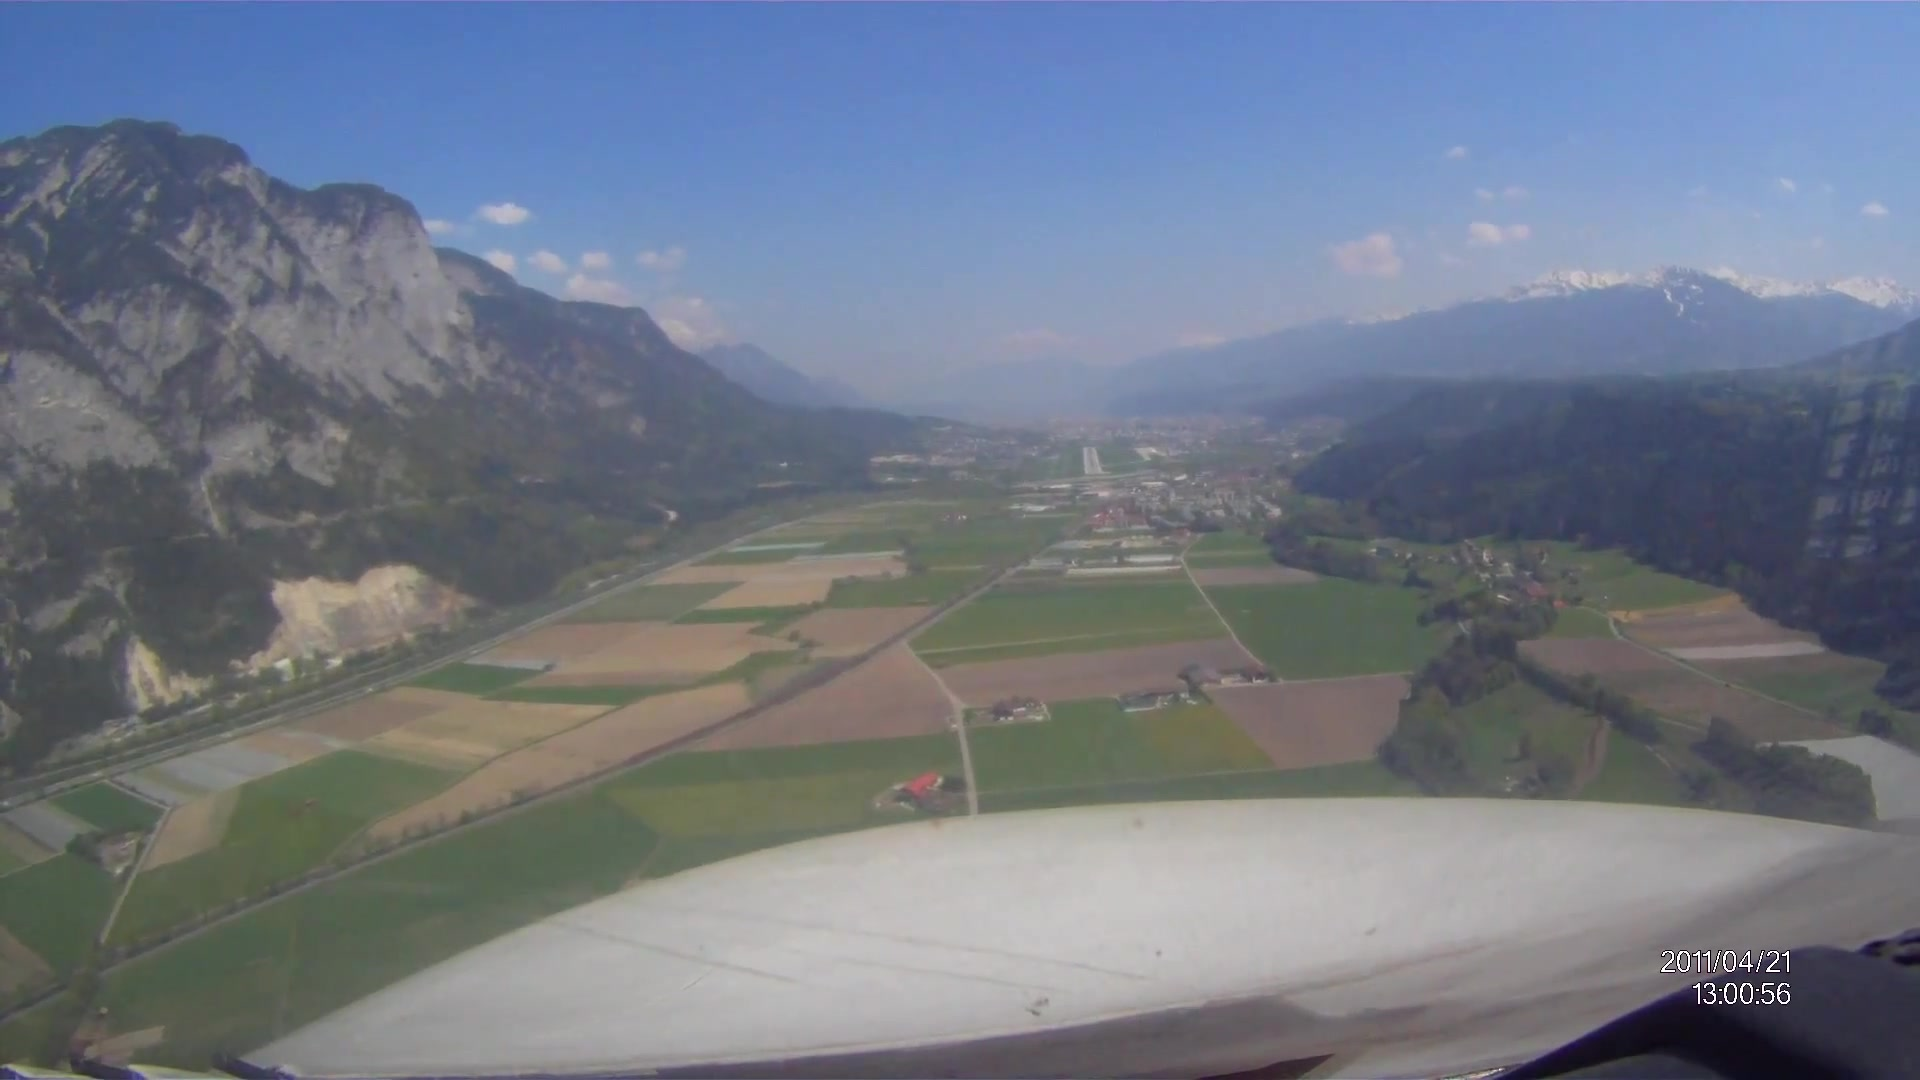runway: (1081, 446, 1102, 476)
